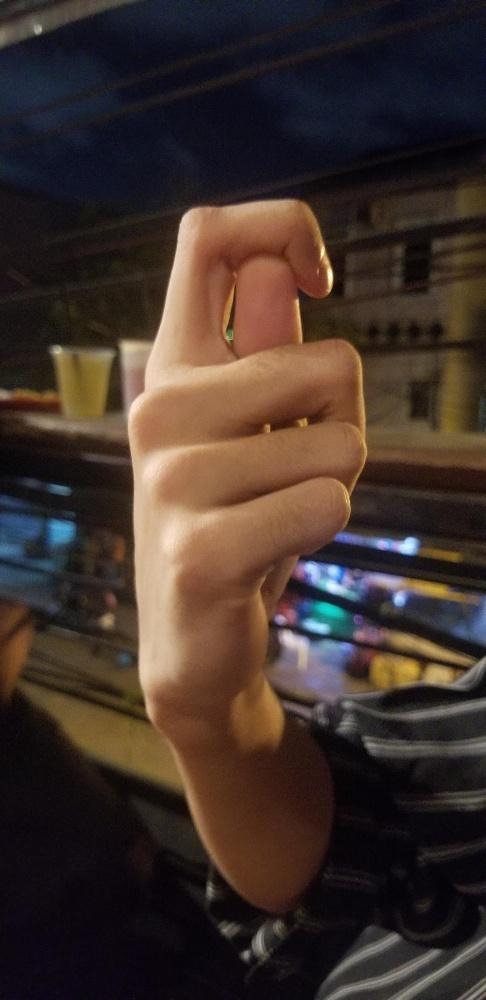t: (126, 196, 370, 707)
